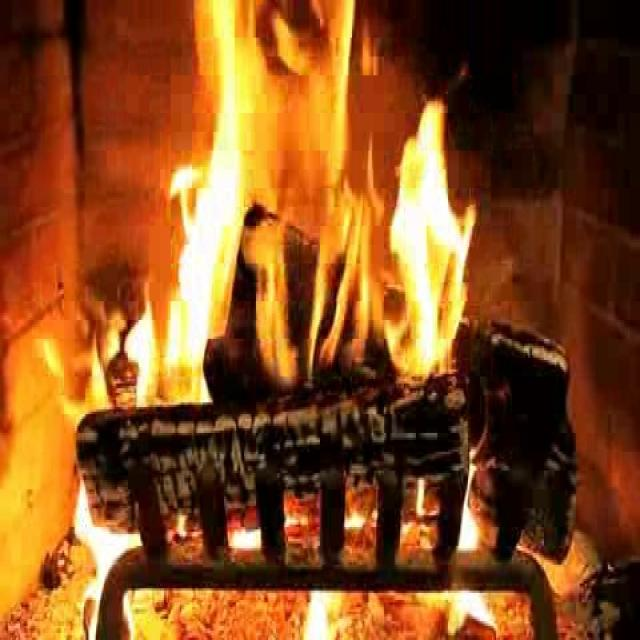fire: (154, 14, 483, 441)
